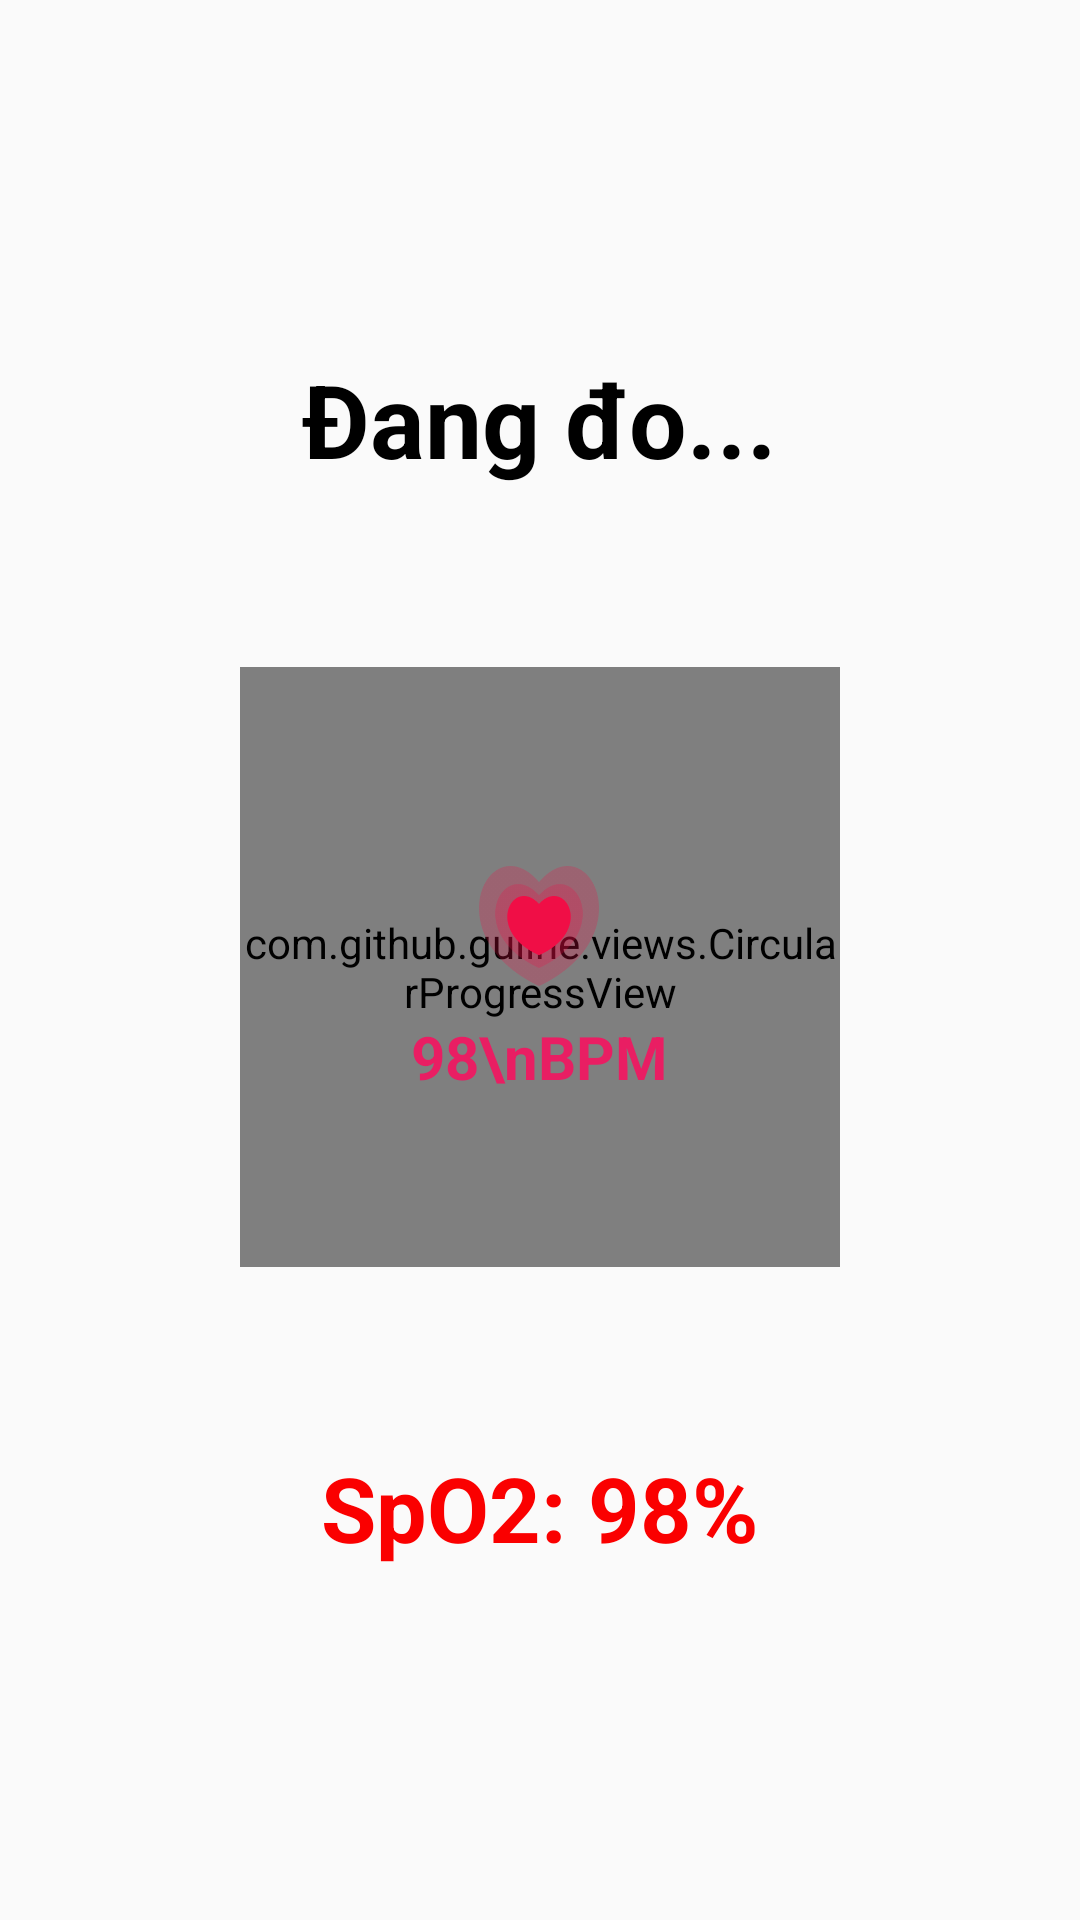

Icons on this 1080px×1920px Android screen, each with the point to tap as point (x, y):
heart: point (539, 926)
